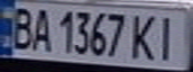1: (54, 7, 75, 54)
3: (72, 8, 93, 55)
6: (87, 9, 109, 57)
7: (106, 9, 130, 58)
A: (27, 4, 54, 52)
B: (6, 3, 36, 51)
I: (151, 12, 187, 62)
K: (127, 10, 163, 61)
